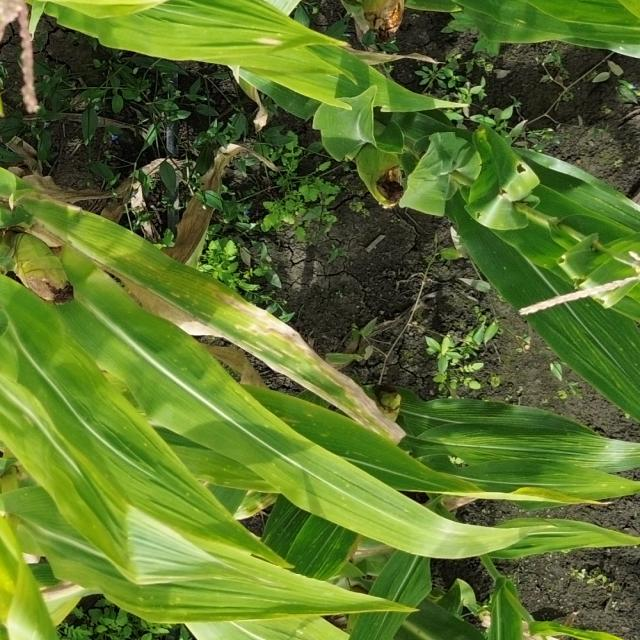gray-leaf-spot: (292, 527, 345, 576), (232, 30, 304, 55)
northern-leaf-blight: (174, 272, 332, 355), (29, 569, 93, 601)
southern-leaf-blight: (271, 399, 380, 460), (126, 586, 264, 622), (182, 452, 262, 488)
